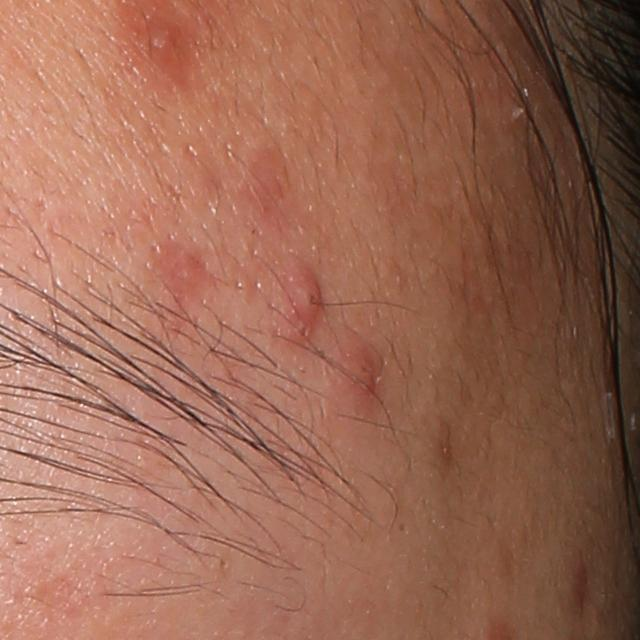papule: (260, 253, 328, 355), (329, 330, 381, 420), (138, 11, 181, 68)
